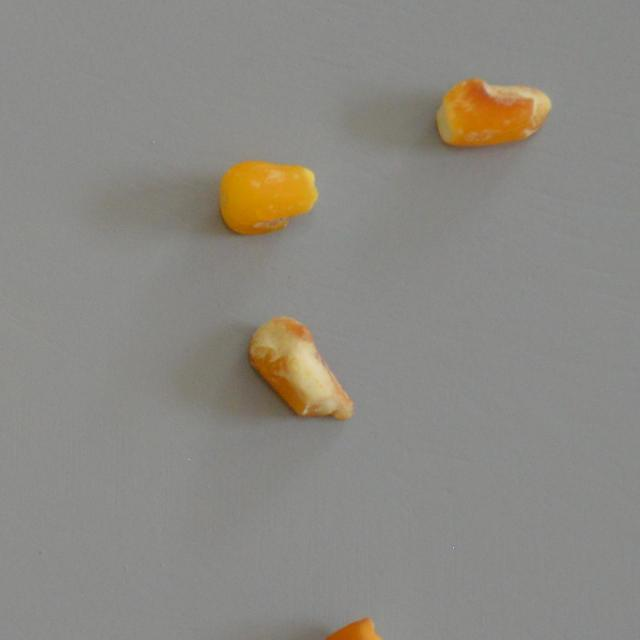dañado: (248, 315, 356, 425), (216, 135, 318, 245), (435, 78, 555, 146), (280, 603, 396, 640)
